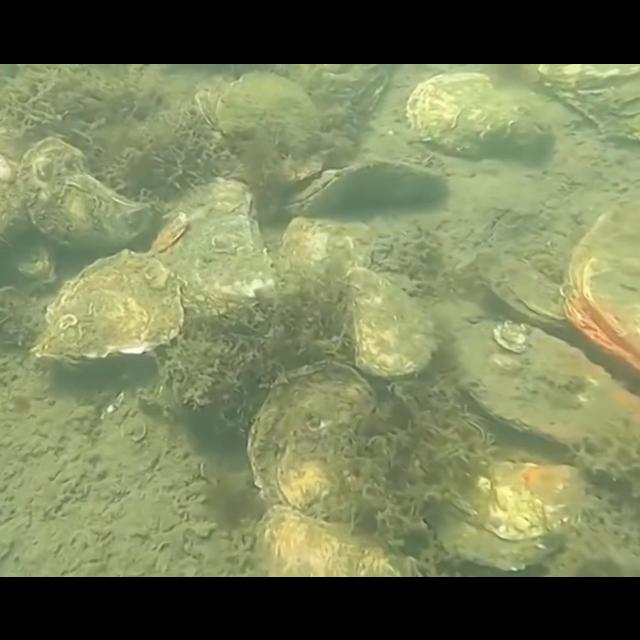Oyster-Closed: (453, 318, 640, 490), (244, 358, 378, 528), (148, 175, 280, 319), (29, 245, 187, 365), (424, 456, 588, 570), (14, 134, 152, 253), (407, 69, 557, 161), (214, 67, 326, 185), (252, 504, 420, 576), (344, 266, 438, 378), (278, 215, 374, 322), (283, 156, 452, 216), (474, 247, 572, 331), (536, 63, 640, 139)
Oyster-Open: (558, 183, 640, 371)
